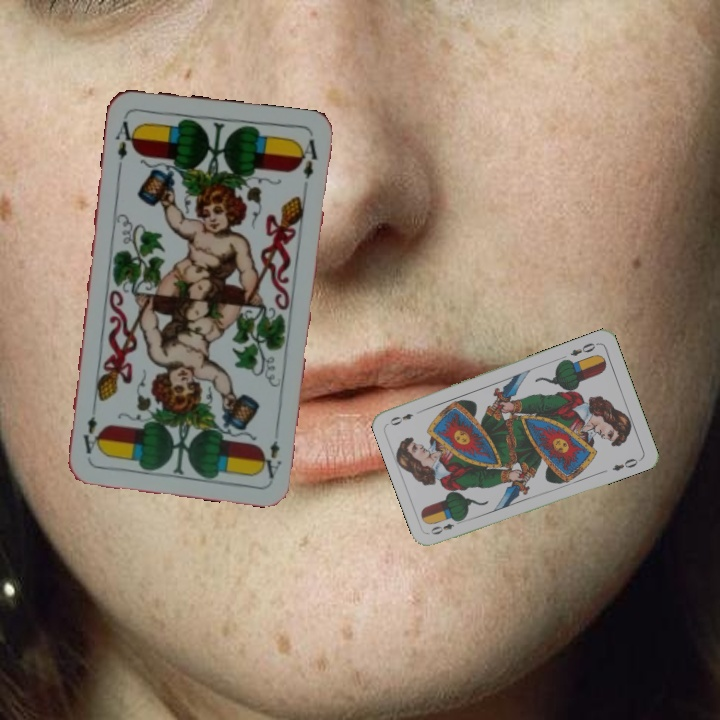EA: (256, 423, 284, 481), (110, 112, 139, 162)
EO: (426, 515, 465, 537), (566, 339, 601, 359)
